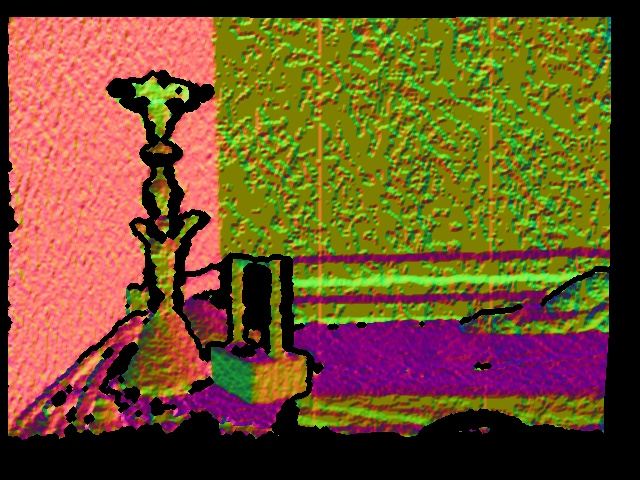station: (209, 255, 312, 403)
